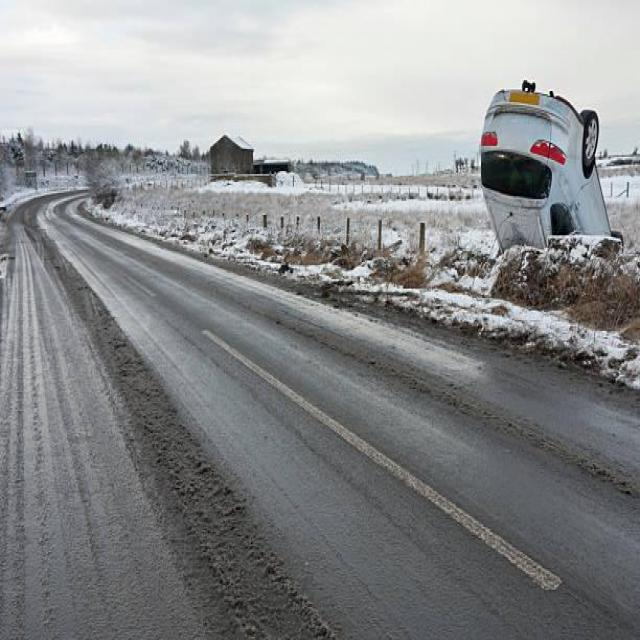severe: (477, 70, 615, 269)
